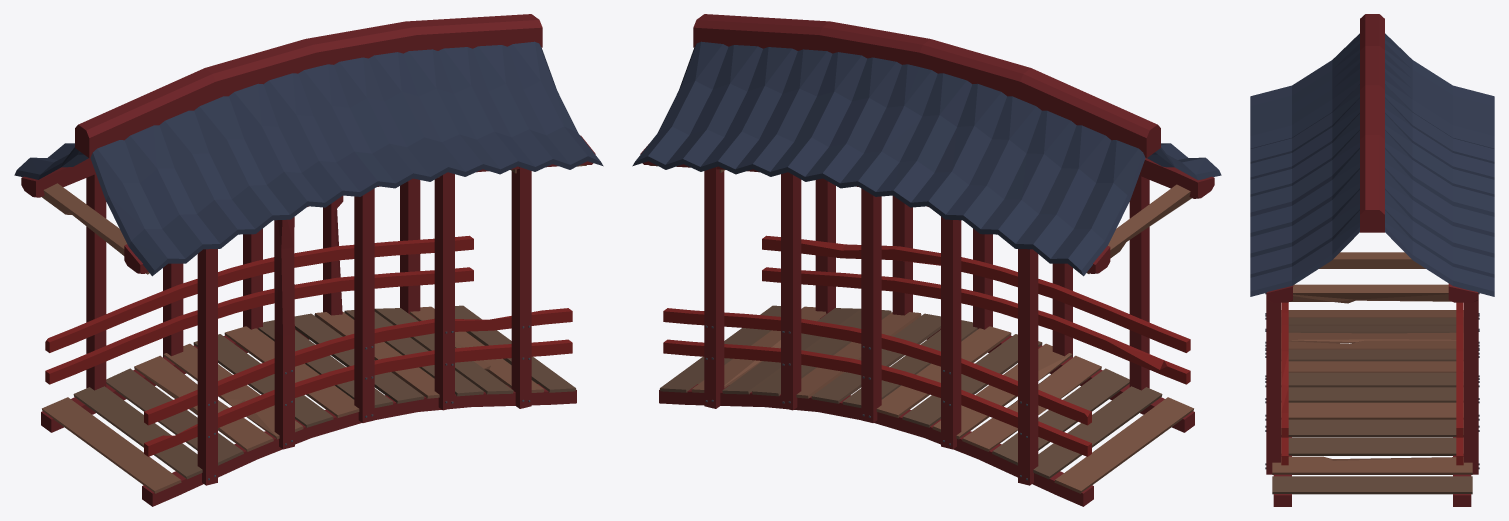
File: Bridge_1_2 Asia.fbx
3 views of the same model, side by side, from view 1: azimuth 30°, elevation 25°; view 2: azimuth 150°, elevation 25°; view 3: azimuth 270°, elevation 25° (orthographic). The views are drawn at different scales.
Parts seen in each view (by area): view 1: Bridge_1_2; view 2: Bridge_1_2; view 3: Bridge_1_2.
Boxes of the visible parts, x1,y1,x2,y2 form: Bridge_1_2: (14,14,603,506); Bridge_1_2: (632,14,1221,506); Bridge_1_2: (1250,14,1494,506).
Bounding box in the file's own units: 4.4 × 3.44 × 2.31.
